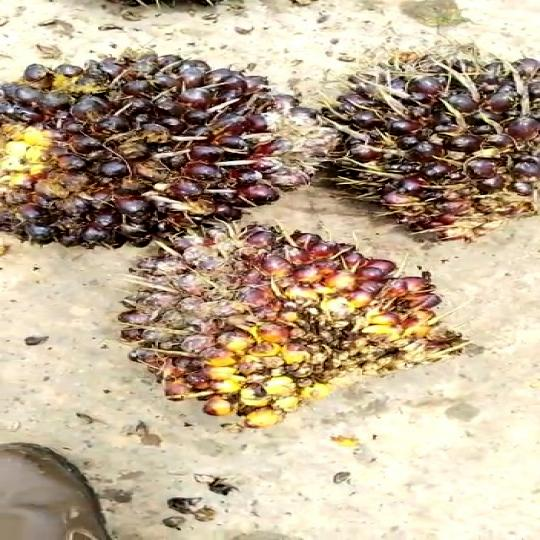kurang masak: (101, 214, 480, 441), (0, 49, 309, 244), (311, 43, 540, 255)
